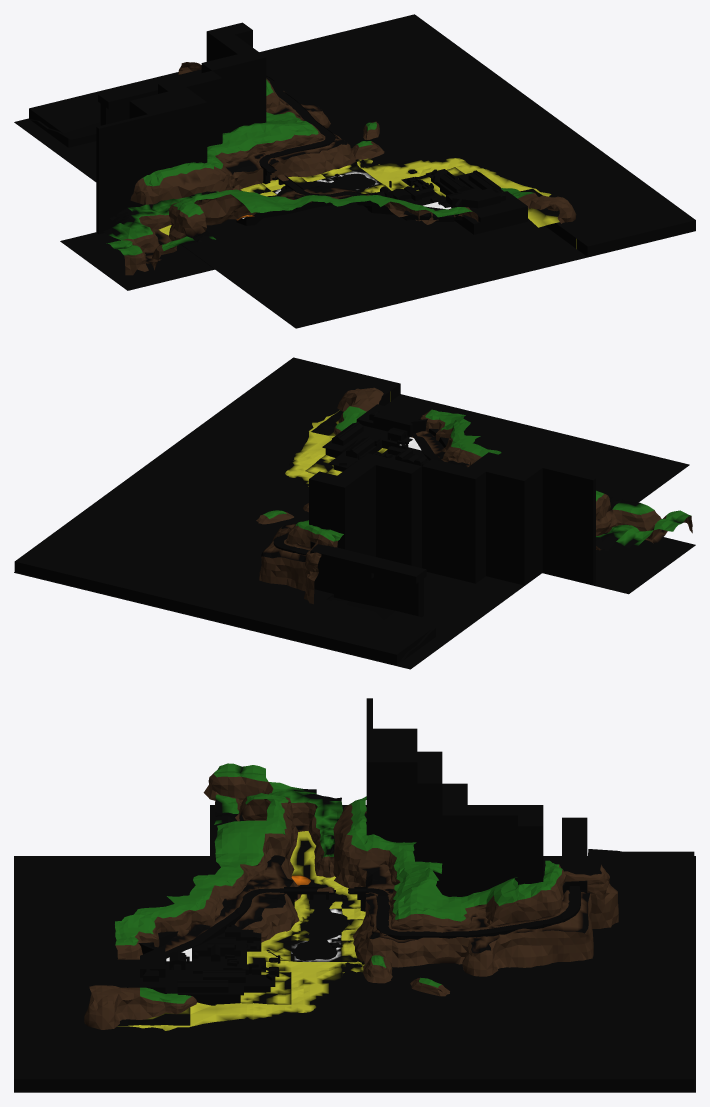
File: COAST04.obj
3 renders of one model, top to bottom at view 1: azimuth 30°, elevation 25°; view 2: azimuth 150°, elevation 25°; view 3: azimuth 270°, elevation 25°, orthographic. The views are drawn at different scales.
Parts seen in each view (by area): view 1: worldspawn_1_2033, worldspawn_1_2166, worldspawn_1_2117, worldspawn_1_2159, worldspawn_1_2124, worldspawn_1_1001, worldspawn_1_44, worldspawn_1_2152, worldspawn_1_1029, worldspawn_1_58, worldspawn_1_2131, worldspawn_1_2145 (+13 smaller); view 2: worldspawn_1_2117, worldspawn_1_2166, worldspawn_1_2033, worldspawn_1_51, worldspawn_1_44, worldspawn_1_2159, worldspawn_1_1001, worldspawn_1_2131, worldspawn_1_2124, worldspawn_1_2012, worldspawn_1_58, worldspawn_1_2152 (+10 smaller); view 3: worldspawn_1_2117, worldspawn_1_2033, worldspawn_1_2166, worldspawn_1_2159, worldspawn_1_2124, worldspawn_1_2152, worldspawn_1_44, worldspawn_1_2131, worldspawn_1_65, worldspawn_1_2145, worldspawn_1_51, worldspawn_1_58 (+19 smaller).
Part boxes in pixels (box(x1,y1,x2,y2)): worldspawn_1_2033: box(192, 210, 695, 328); worldspawn_1_2166: box(327, 75, 559, 167); worldspawn_1_2117: box(140, 14, 468, 97); worldspawn_1_2159: box(534, 167, 695, 256); worldspawn_1_2124: box(292, 54, 497, 116); worldspawn_1_1001: box(96, 114, 150, 234); worldspawn_1_44: box(129, 87, 207, 173); worldspawn_1_2152: box(470, 136, 613, 188); worldspawn_1_1029: box(60, 232, 214, 290); worldspawn_1_58: box(201, 50, 266, 133); worldspawn_1_2131: box(29, 81, 142, 147); worldspawn_1_2145: box(434, 121, 580, 163); worldspawn_1_2117: box(14, 522, 333, 638); worldspawn_1_2166: box(98, 455, 308, 543); worldspawn_1_2033: box(385, 394, 689, 510); worldspawn_1_51: box(422, 458, 485, 583); worldspawn_1_44: box(468, 452, 544, 585); worldspawn_1_2159: box(221, 357, 400, 431); worldspawn_1_1001: box(542, 466, 595, 584); worldspawn_1_2131: box(287, 599, 435, 665); worldspawn_1_2124: box(69, 501, 270, 568); worldspawn_1_2012: box(14, 572, 542, 669); worldspawn_1_58: box(358, 453, 421, 567); worldspawn_1_2152: box(180, 411, 308, 467); worldspawn_1_2117: box(562, 917, 694, 1091); worldspawn_1_2033: box(14, 856, 264, 1092); worldspawn_1_2166: box(341, 962, 492, 1091); worldspawn_1_2159: box(14, 1015, 190, 1091); worldspawn_1_2124: box(492, 962, 561, 1091); worldspawn_1_2152: box(190, 1013, 291, 1091); worldspawn_1_44: box(366, 728, 417, 861); worldspawn_1_2131: box(609, 851, 694, 916); worldspawn_1_65: box(467, 805, 543, 895); worldspawn_1_2145: box(291, 1004, 341, 1091); worldspawn_1_51: box(417, 751, 442, 893); worldspawn_1_58: box(442, 783, 467, 896).
Bounding box in the file's own units: 276 × 73.76 × 277.
